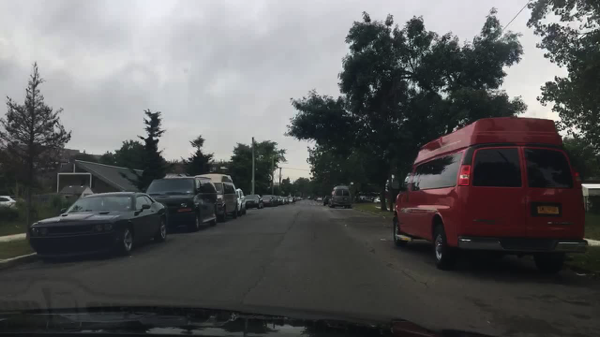car: (388, 119, 588, 273), (27, 191, 169, 263), (145, 177, 219, 233), (193, 173, 239, 223), (330, 184, 352, 210), (234, 188, 249, 219), (0, 195, 25, 211), (243, 195, 264, 209), (260, 194, 277, 207), (372, 195, 390, 205), (322, 195, 334, 207), (357, 196, 373, 204), (274, 195, 283, 205), (280, 196, 288, 204), (315, 196, 322, 203), (287, 196, 294, 202), (294, 196, 302, 201)
